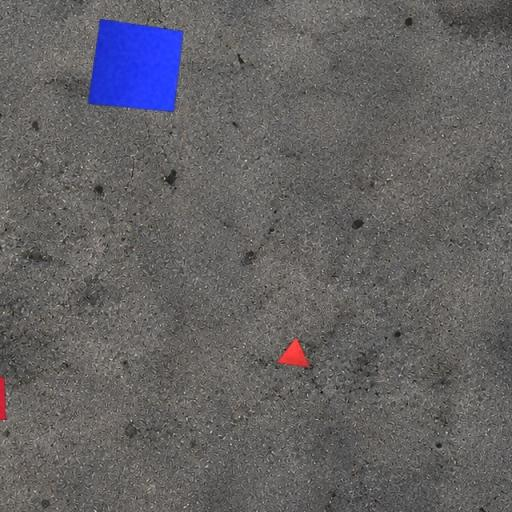BLUE_SQUARE: (87, 18, 184, 112)
